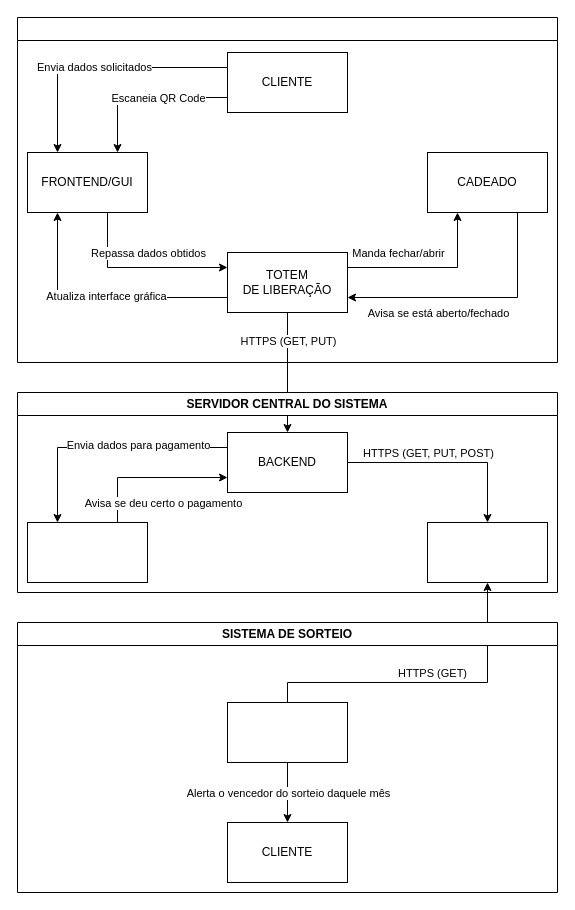
This 575x910 diagram has some shape labels left out. The shapes that lost their labels are listed below. From the top down, each one's centre as x and y in pixels, then its label:
point 287,189: AMBIENTE LOCAL
point 87,552: API do PIX
point 487,552: BANCO DE DADOS (MongoDB)
point 287,732: BACKEND SISTEMA SORTEIO
